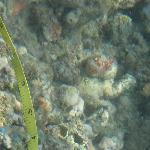dead: (6, 1, 149, 148)
